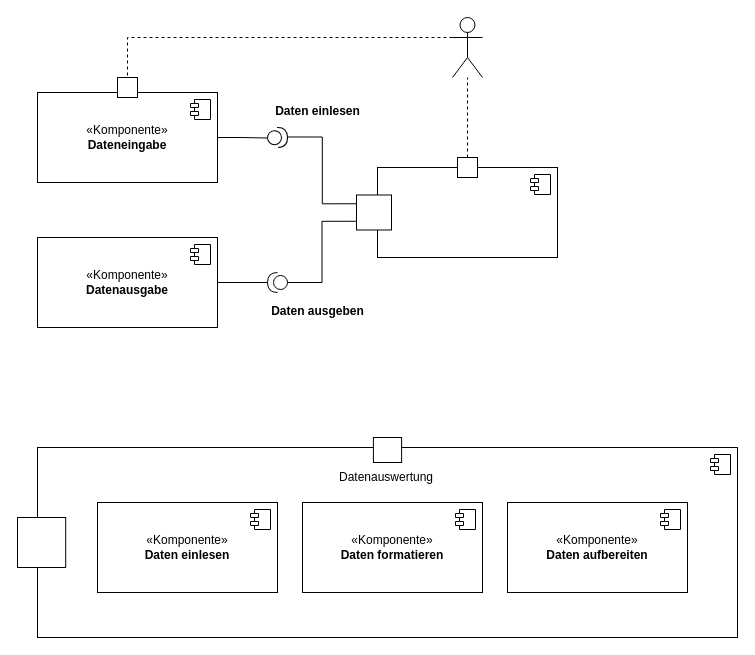
Some shapes in this 755 by 655 pixel diagram are drawn without their labels. The box of each missing label's shape, as (x1, y1, x2, y2) in pixels:
Actor: (452, 16, 482, 78)
«Komponente» Datenauswertung: (376, 166, 558, 258)
